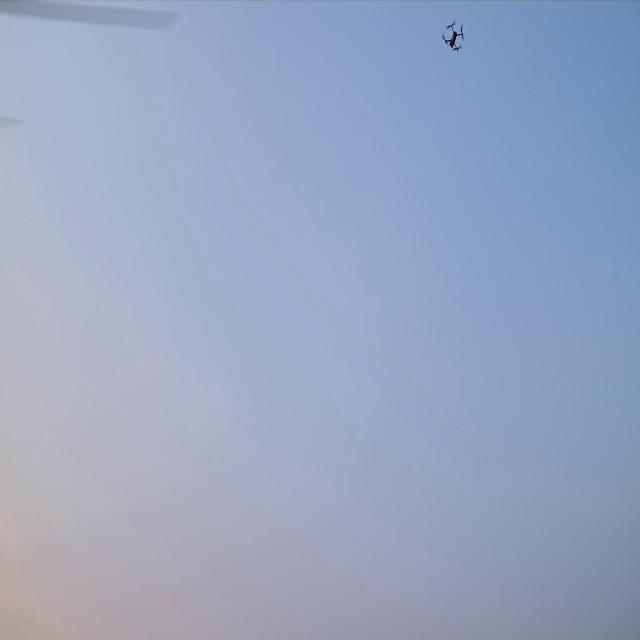UAV: (443, 24, 462, 52)
